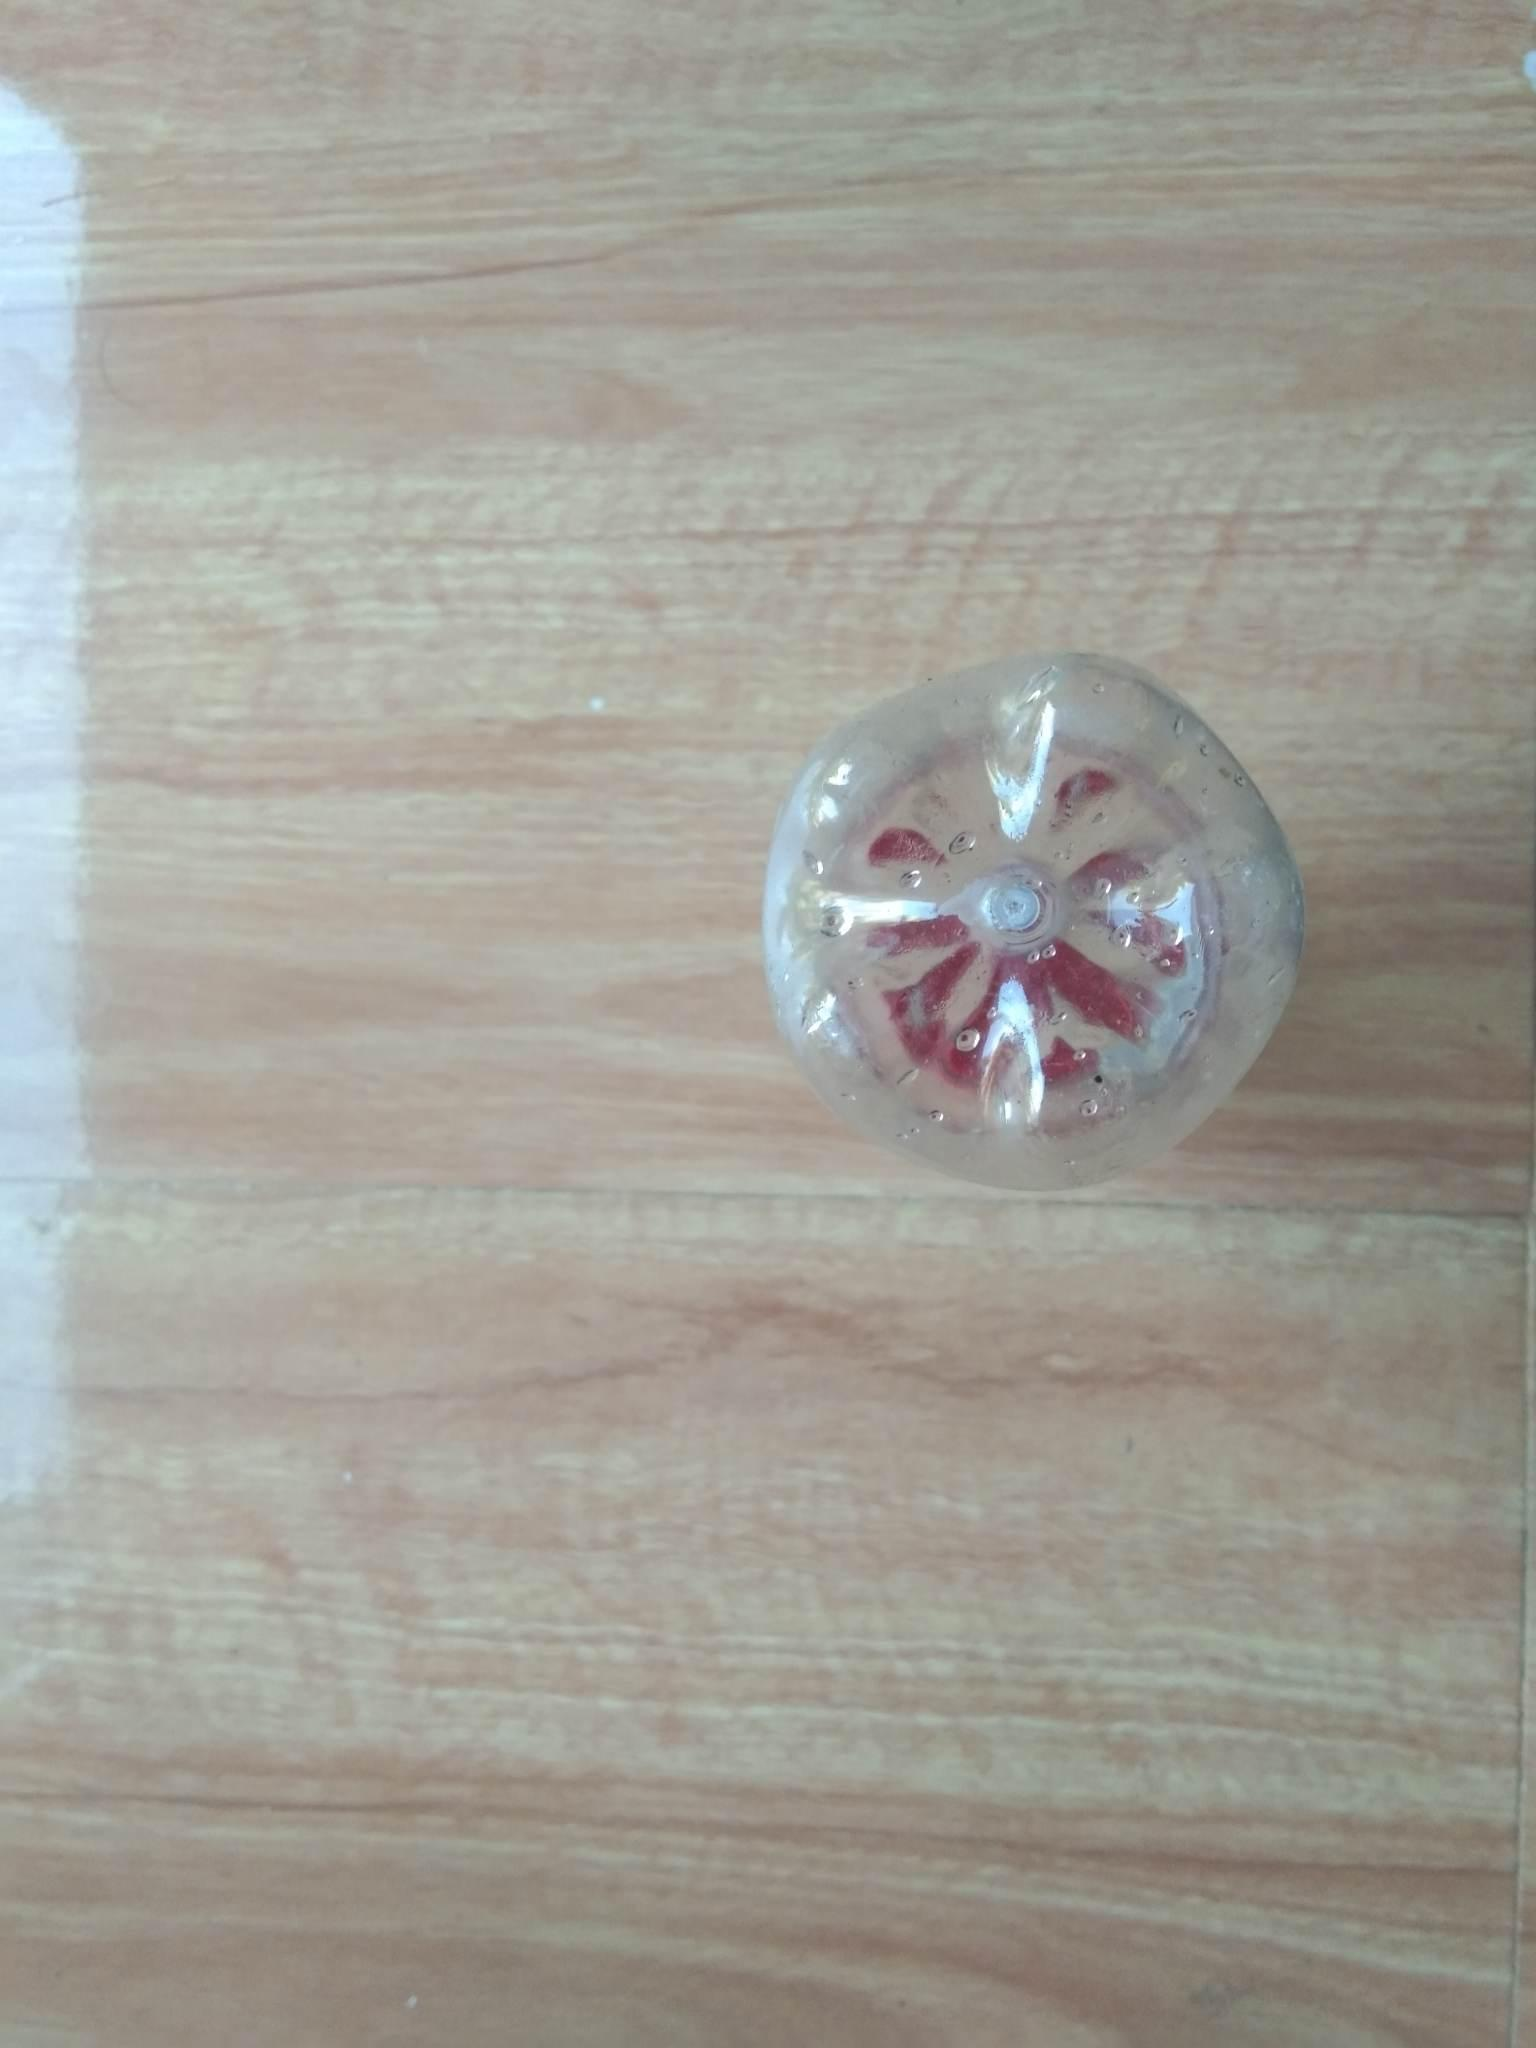plastic: (670, 569, 1291, 1230)
